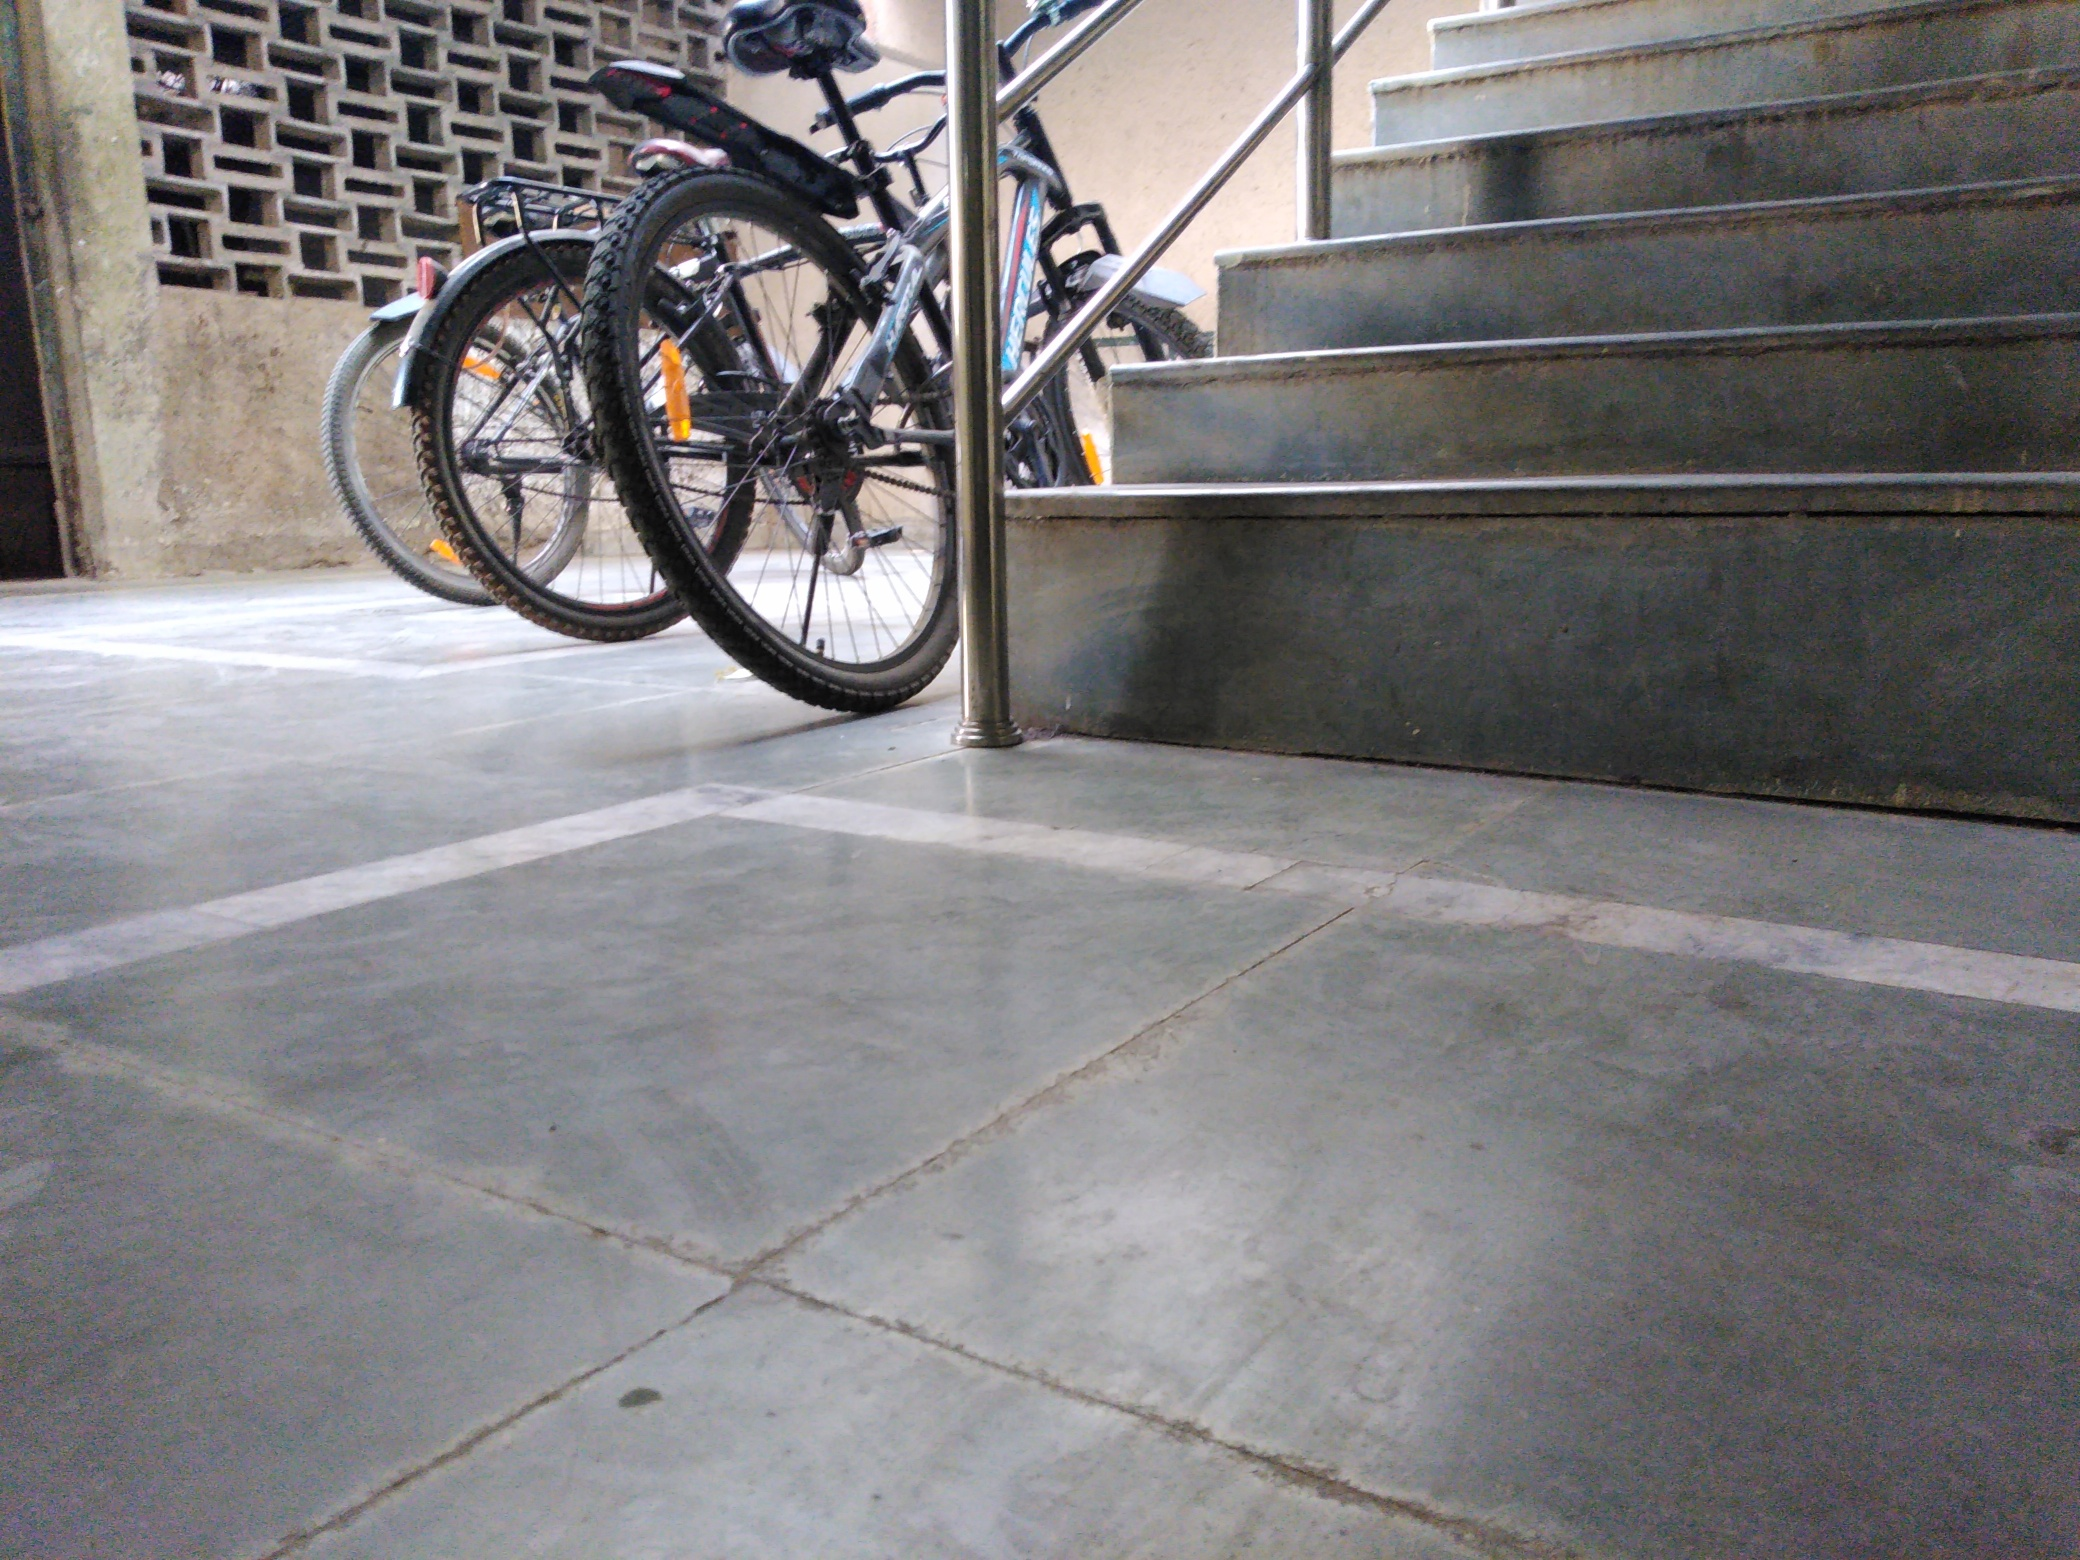stairs_up: (979, 11, 2073, 751)
